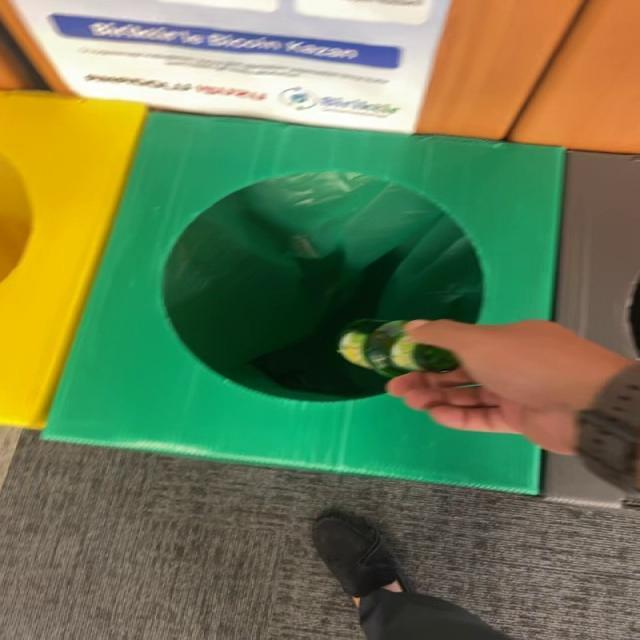Glass: (337, 321, 460, 378)
